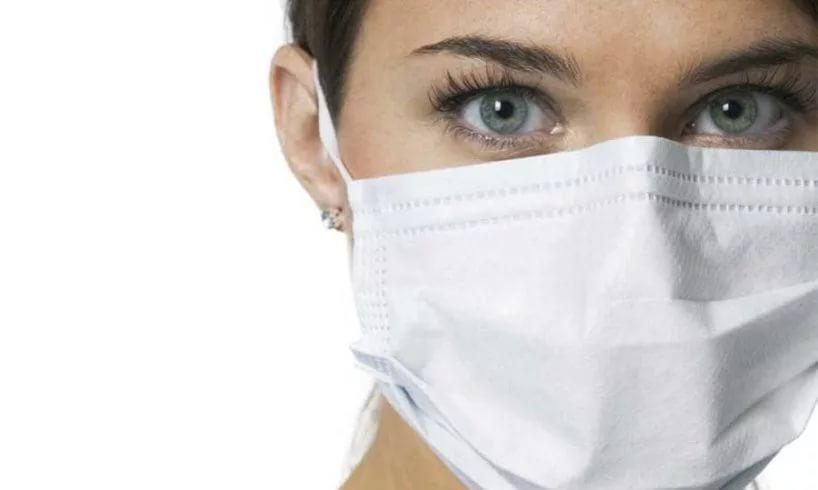mask: (297, 1, 818, 489)
